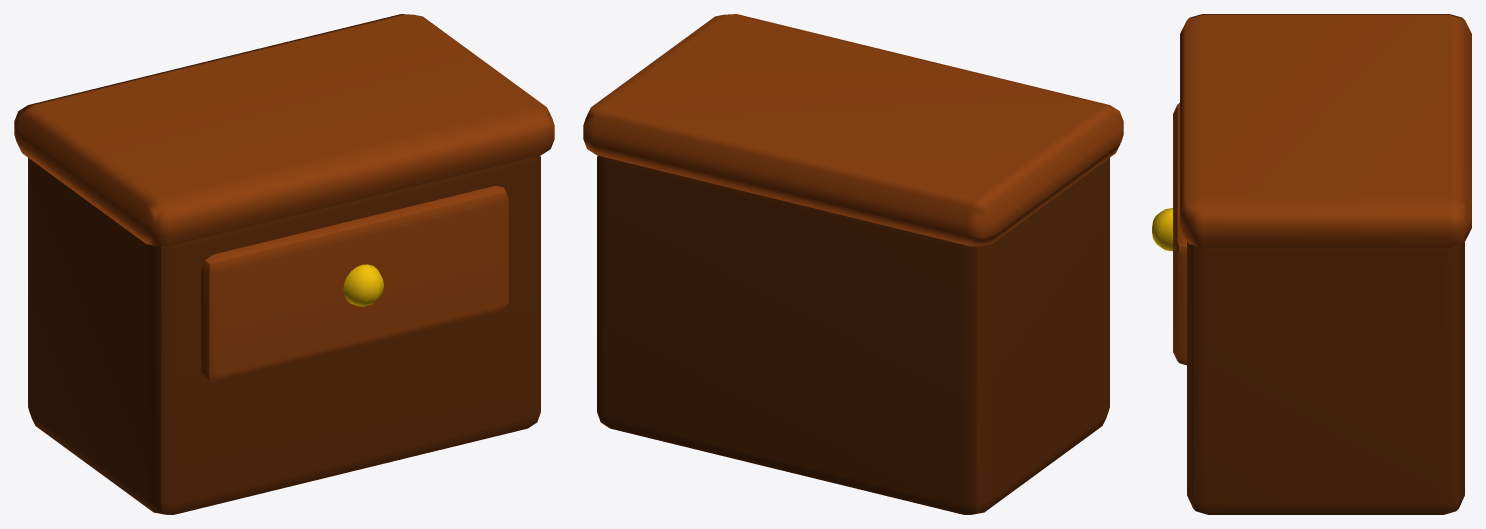
File: Forniture.fbx
The picture shows the model from 3 angles, left to right: view 1: azimuth 30°, elevation 25°; view 2: azimuth 150°, elevation 25°; view 3: azimuth 270°, elevation 25°; orthographic projection.
Parts seen in each view (by area): view 1: Forniture2; view 2: Forniture2; view 3: Forniture2.
Part boxes in pixels (x1,y1,x2,y2): Forniture2: (14,14,554,514); Forniture2: (583,14,1123,514); Forniture2: (1152,14,1471,514).
Size of the model in its own units: 2.21 by 1.65 by 1.49.
1 material, 1 textured.
